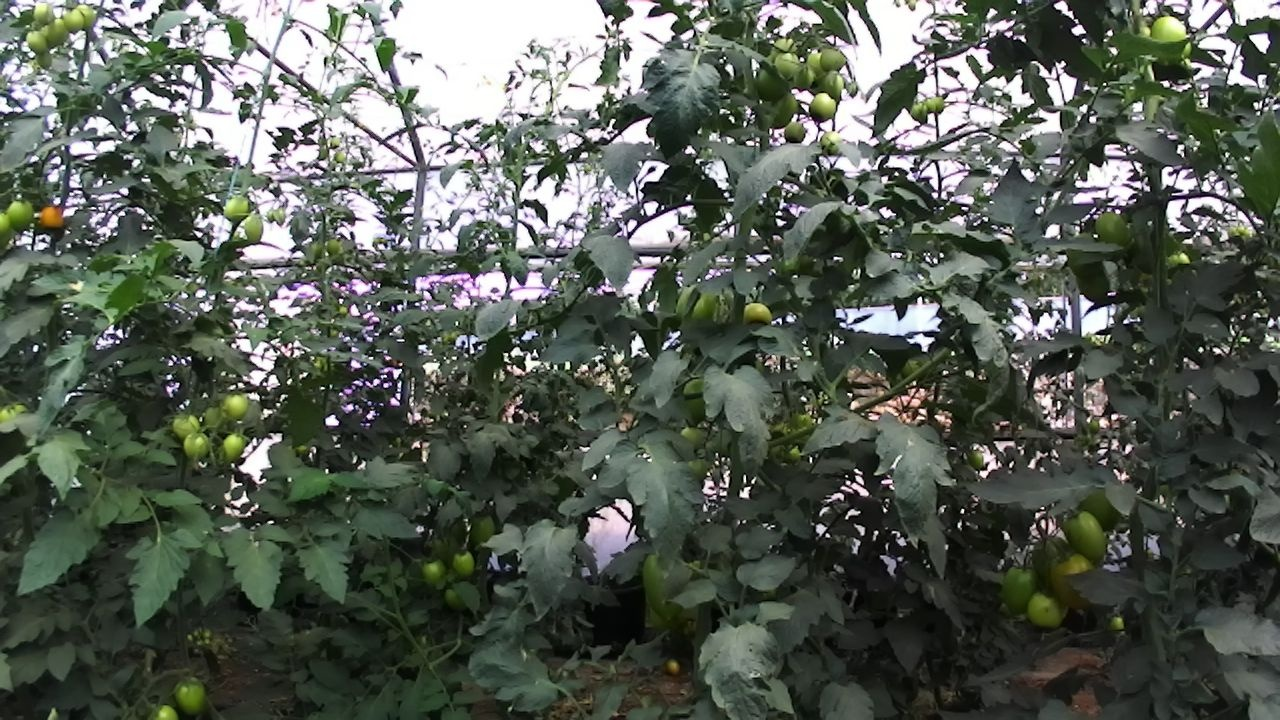tomato: (631, 547, 709, 630), (1043, 548, 1105, 611), (1142, 7, 1200, 66), (1056, 504, 1113, 562), (995, 561, 1048, 622), (1084, 204, 1144, 256), (1016, 585, 1070, 636), (165, 670, 215, 719), (748, 59, 799, 106), (413, 546, 458, 597), (735, 294, 783, 336), (211, 425, 252, 469), (3, 191, 40, 237), (442, 543, 482, 585), (167, 407, 208, 447), (216, 383, 254, 426), (176, 427, 216, 466), (216, 189, 258, 225), (769, 46, 805, 85), (806, 89, 841, 126), (238, 208, 269, 247), (36, 199, 69, 234), (815, 42, 851, 74), (787, 61, 819, 94), (818, 66, 848, 101), (72, 0, 100, 36), (43, 14, 72, 46), (60, 5, 89, 37), (23, 26, 52, 56), (780, 118, 810, 146), (28, 0, 58, 26), (31, 47, 57, 73)
